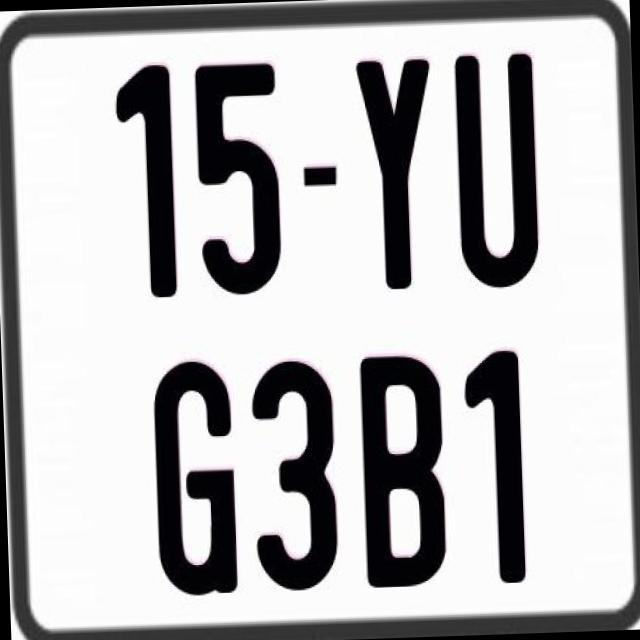1: (458, 345, 528, 584), (110, 59, 176, 300)
3: (246, 354, 336, 590)
5: (190, 58, 284, 294)
B: (361, 352, 446, 586)
G: (152, 360, 246, 606)
U: (449, 54, 536, 288)
Y: (355, 58, 443, 298)
